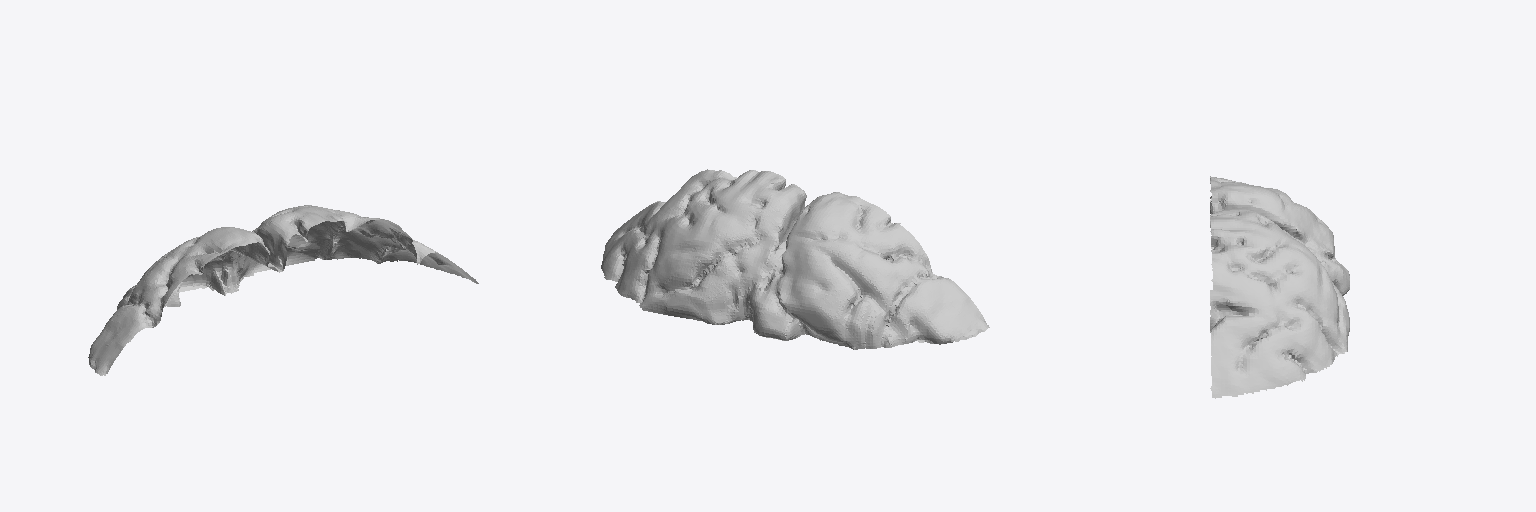
File: cortex_4_4.obj
3 renders of one model, left to right at view 1: azimuth 30°, elevation 25°; view 2: azimuth 150°, elevation 25°; view 3: azimuth 270°, elevation 25°, orthographic.
Parts seen in each view (by area): view 1: Cortex_3_4_Mehrdad_SagT1_Cortex_v1_No_Smooth_OBJ.000_Mehrda.000; view 2: Cortex_3_4_Mehrdad_SagT1_Cortex_v1_No_Smooth_OBJ.000_Mehrda.000; view 3: Cortex_3_4_Mehrdad_SagT1_Cortex_v1_No_Smooth_OBJ.000_Mehrda.000.
Part boxes in pixels (left/top/right/bottom): Cortex_3_4_Mehrdad_SagT1_Cortex_v1_No_Smooth_OBJ.000_Mehrda.000: left=88, top=205, right=478, bottom=375; Cortex_3_4_Mehrdad_SagT1_Cortex_v1_No_Smooth_OBJ.000_Mehrda.000: left=601, top=169, right=989, bottom=349; Cortex_3_4_Mehrdad_SagT1_Cortex_v1_No_Smooth_OBJ.000_Mehrda.000: left=1210, top=176, right=1349, bottom=398.
Size of the model in its own units: 95.38 by 24.99 by 30.7.